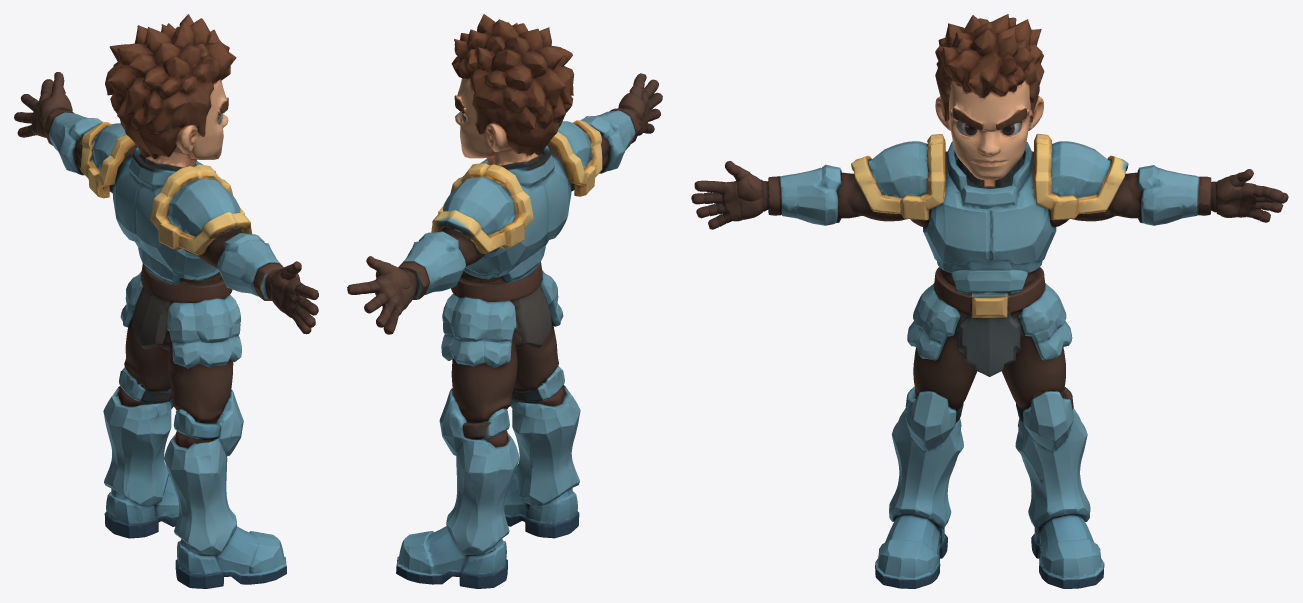
Rendered from A01_tripo.glb.
3 views of the same model, side by side, from view 1: azimuth 30°, elevation 25°; view 2: azimuth 150°, elevation 25°; view 3: azimuth 270°, elevation 25° (orthographic). The views are drawn at different scales.
Visible parts, largest first — view 1: tripo_node_32dcdf8a-8ed1-459a-b459-ae2acac09806; view 2: tripo_node_32dcdf8a-8ed1-459a-b459-ae2acac09806; view 3: tripo_node_32dcdf8a-8ed1-459a-b459-ae2acac09806.
Part boxes in pixels (x1,y1,x2,y2): tripo_node_32dcdf8a-8ed1-459a-b459-ae2acac09806: (14, 14, 318, 588); tripo_node_32dcdf8a-8ed1-459a-b459-ae2acac09806: (347, 14, 662, 588); tripo_node_32dcdf8a-8ed1-459a-b459-ae2acac09806: (691, 14, 1288, 588).
Size of the model in its own units: 0.2533 by 0.9774 by 0.983.
Materials: 1 (1 with a texture image).
